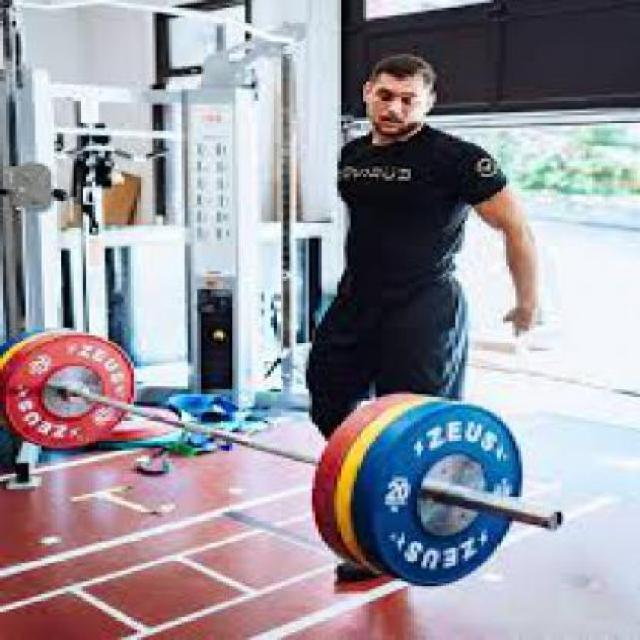Barbell: (540, 507, 571, 535)
